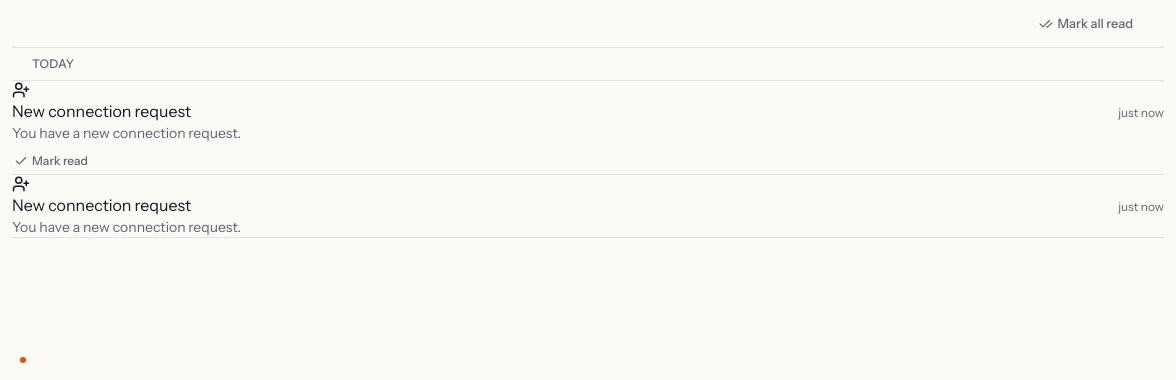
Test: NotificationInbox › marks all read at once, and puts back only those it flipped when that fails
Click the button "Mark all read".
click(1086, 24)  # box 1028,10 -> 1144,38
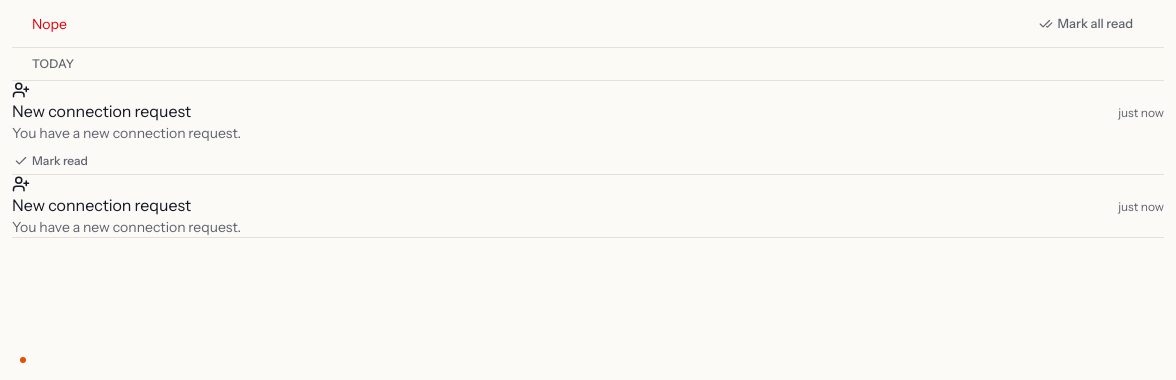
Now the message reads "Nope", box 32,14 -> 67,32
Click the button "Mark all read".
click(1086, 24)  # box 1028,10 -> 1144,38
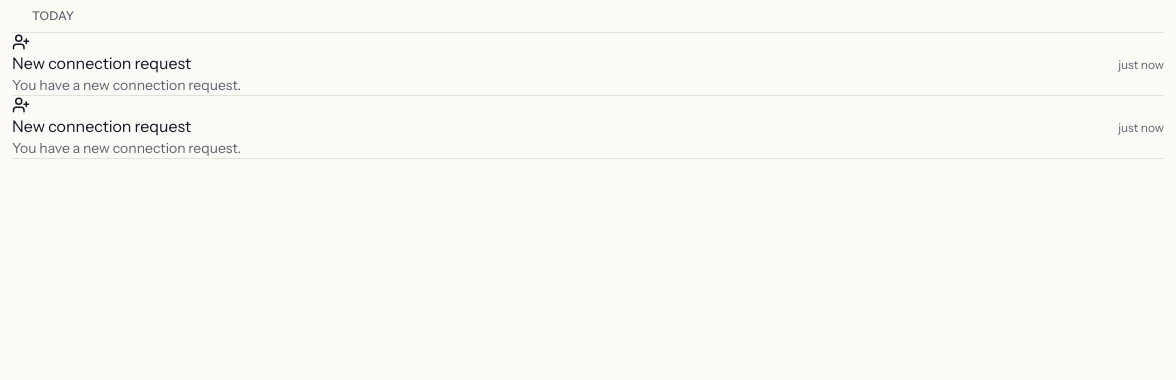
Now the button "Mark read" is gone
Now the button "Mark all read" is gone
